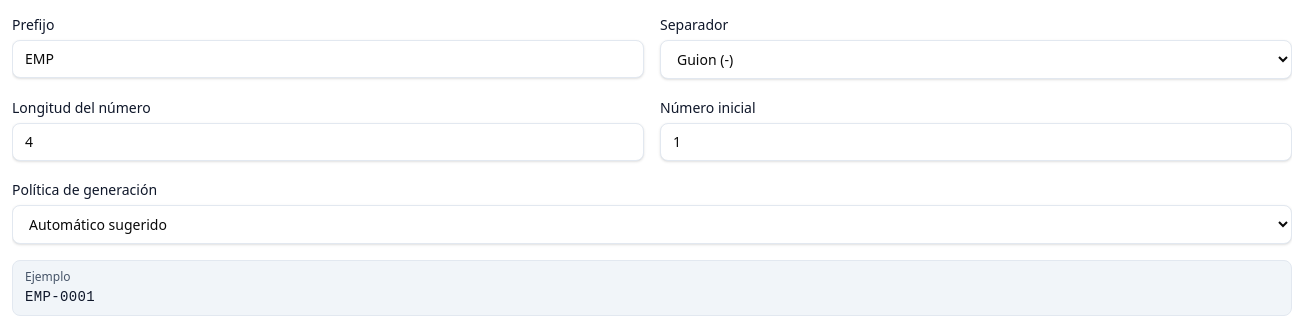
Test: CfgSecuenciaFormatoFields › actualiza ejemplo al cambiar formato
Expected: the text "EMP-0001" is shown, 25,289 -> 95,305
Replace the text in the field labelled "Prefijo" with "ALM" at [328, 59], box 12,40 -> 644,78
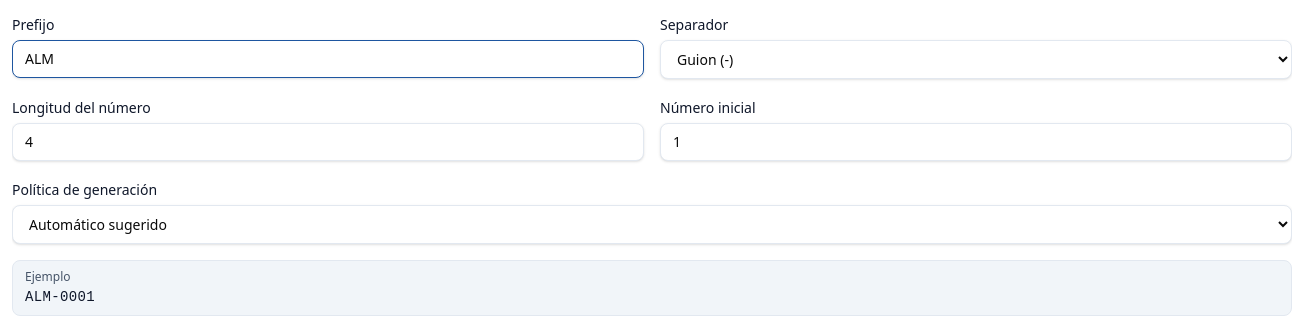
Now the text "ALM-0001" is shown, box 25,289 -> 95,305
